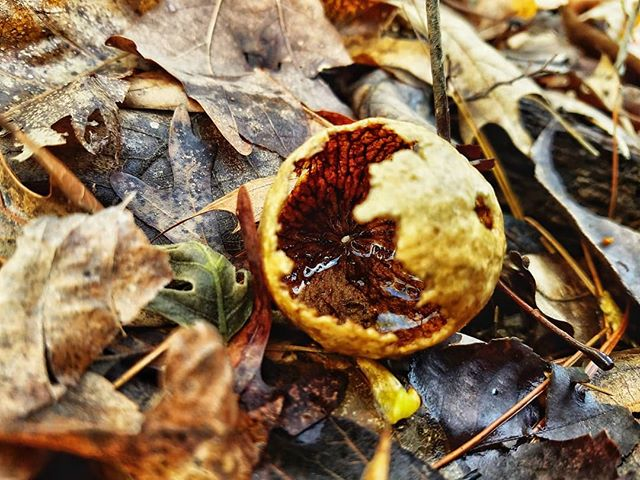vegetation: (7, 5, 640, 480)
